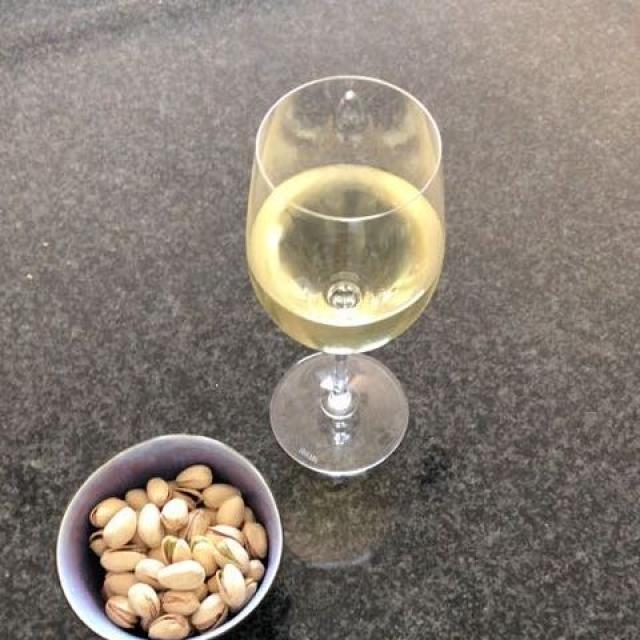pistachio: (93, 465, 262, 638)
wine: (253, 170, 442, 323)
